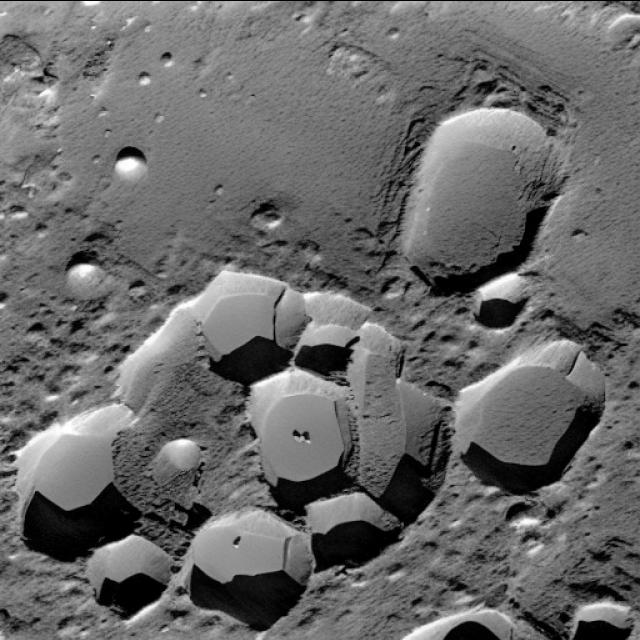crater: (398, 109, 574, 297), (458, 338, 610, 492), (17, 402, 147, 558), (186, 510, 315, 629), (246, 368, 356, 500), (195, 269, 311, 383), (88, 535, 174, 621)
